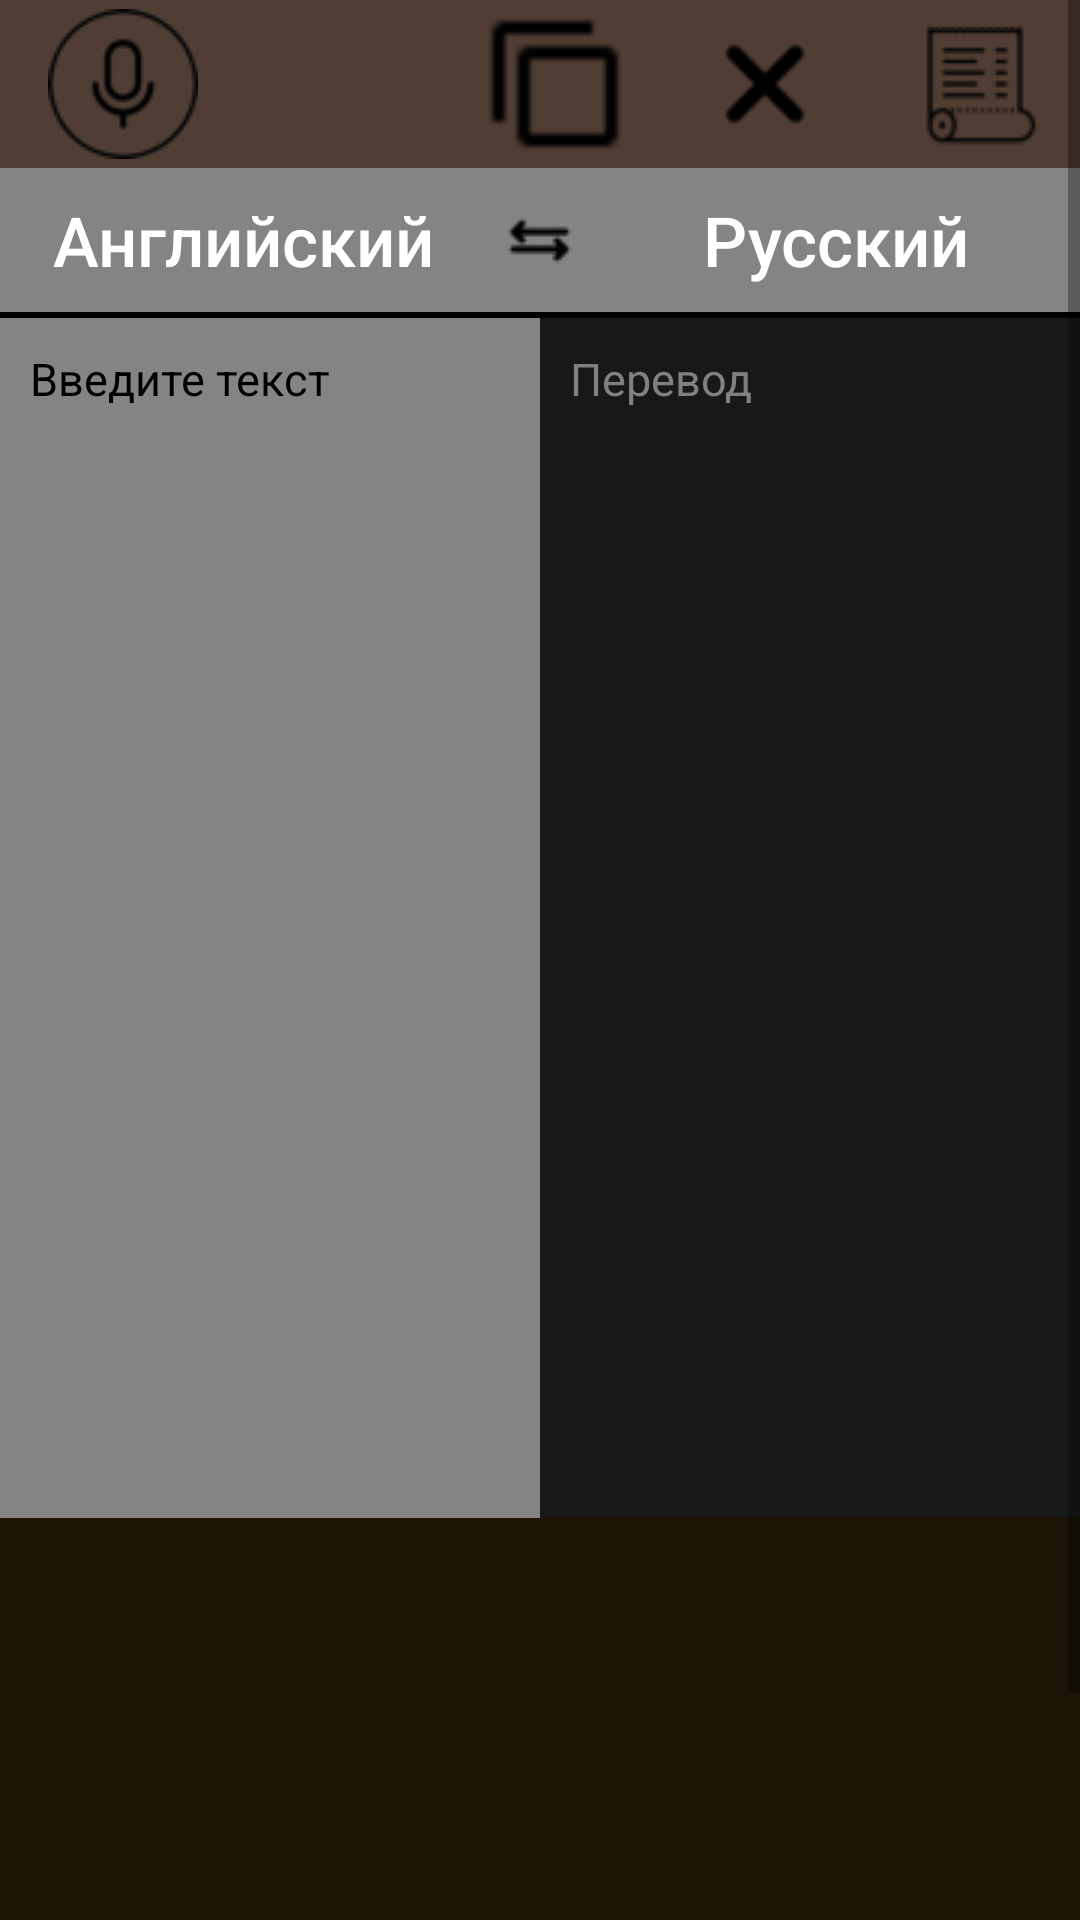

Icons on this 1080px×1920px Android screen, each with its box as BBox(x1, y1, x2, y2):
clear text: BBox(726, 45, 804, 123)
exchange language: BBox(509, 219, 570, 262)
history of translate: BBox(927, 27, 1036, 143)
voice message: BBox(48, 9, 198, 159)
